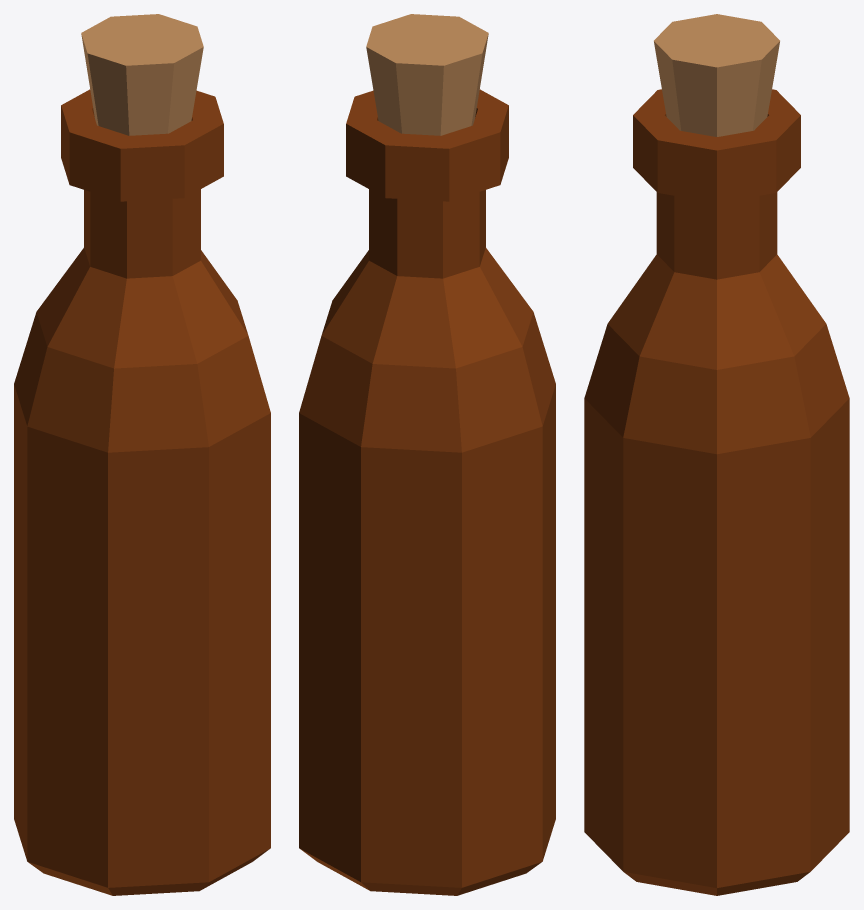
File: Bottle_03.fbx
The picture shows the model from 3 angles, left to right: view 1: azimuth 30°, elevation 25°; view 2: azimuth 150°, elevation 25°; view 3: azimuth 270°, elevation 25°; orthographic projection.
Visible parts, largest first — view 1: Bottle_03; view 2: Bottle_03; view 3: Bottle_03.
Part boxes in pixels (x1,y1,x2,y2): Bottle_03: [14, 14, 270, 895]; Bottle_03: [299, 14, 555, 895]; Bottle_03: [584, 14, 849, 895].
Size of the model in its own units: 7.29 by 24.47 by 7.29.
